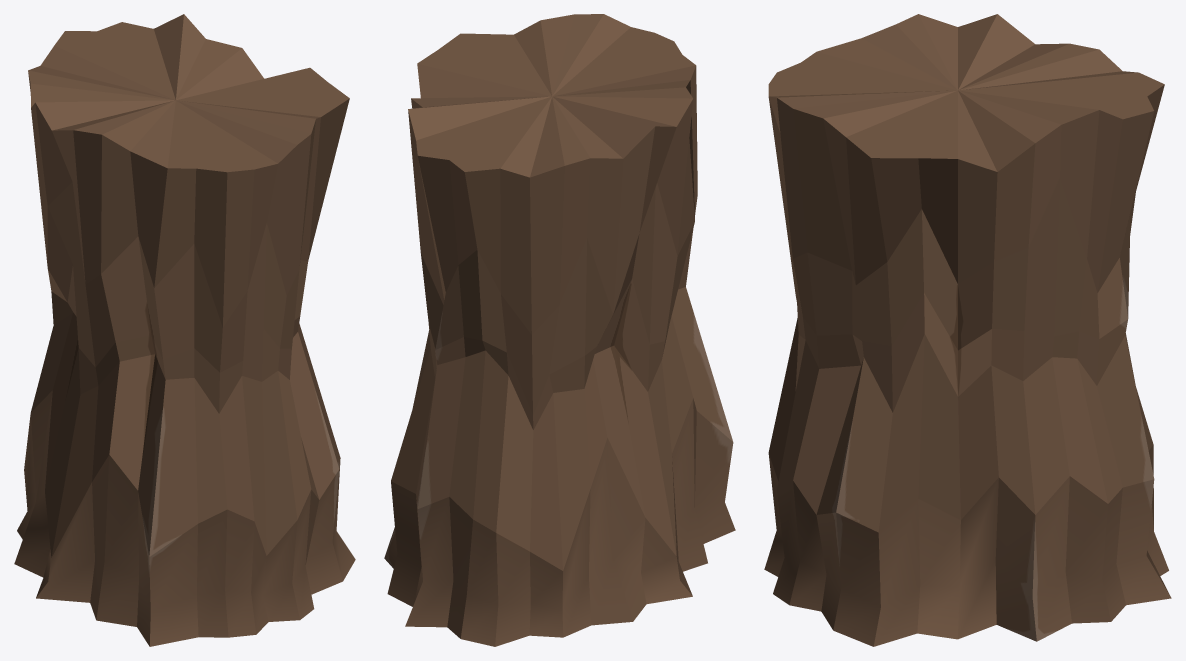
Rendered from Wall02.fbx.
3 views of the same model, side by side, from view 1: azimuth 30°, elevation 25°; view 2: azimuth 150°, elevation 25°; view 3: azimuth 270°, elevation 25° (orthographic). The views are drawn at different scales.
Parts seen in each view (by area): view 1: pCylinder1; view 2: pCylinder1; view 3: pCylinder1.
Boxes of the visible parts, x1,y1,x2,y2 form: pCylinder1: (14,14,355,646); pCylinder1: (384,14,735,646); pCylinder1: (764,14,1171,646).
Bounding box in the file's own units: 6.36 × 10.58 × 7.66.
